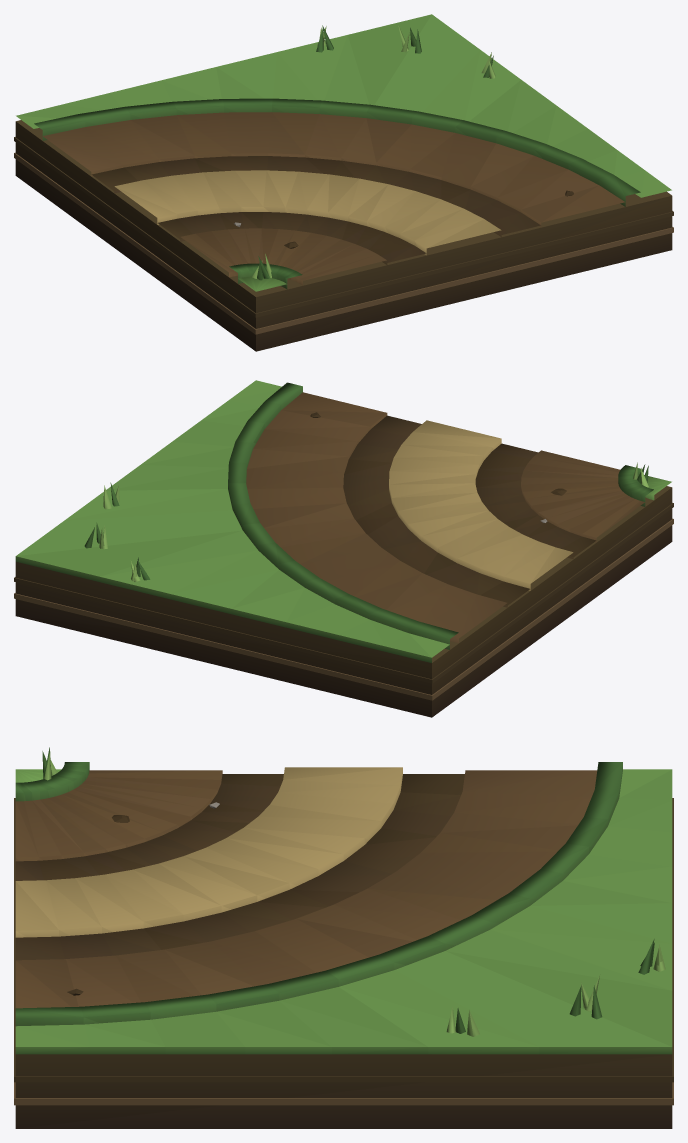
Rendered from track-corner.glb.
3 renders of one model, top to bottom at view 1: azimuth 30°, elevation 25°; view 2: azimuth 150°, elevation 25°; view 3: azimuth 270°, elevation 25°, orthographic. The views are drawn at different scales.
Parts seen in each view (by area): view 1: track_corner; view 2: track_corner; view 3: track_corner.
Boxes of the visible parts, <box> form: track_corner: <box>14,14,673,351</box>; track_corner: <box>14,380,673,717</box>; track_corner: <box>14,747,673,1128</box>.
Size of the model in its own units: 4.02 by 0.7737 by 4.02.
